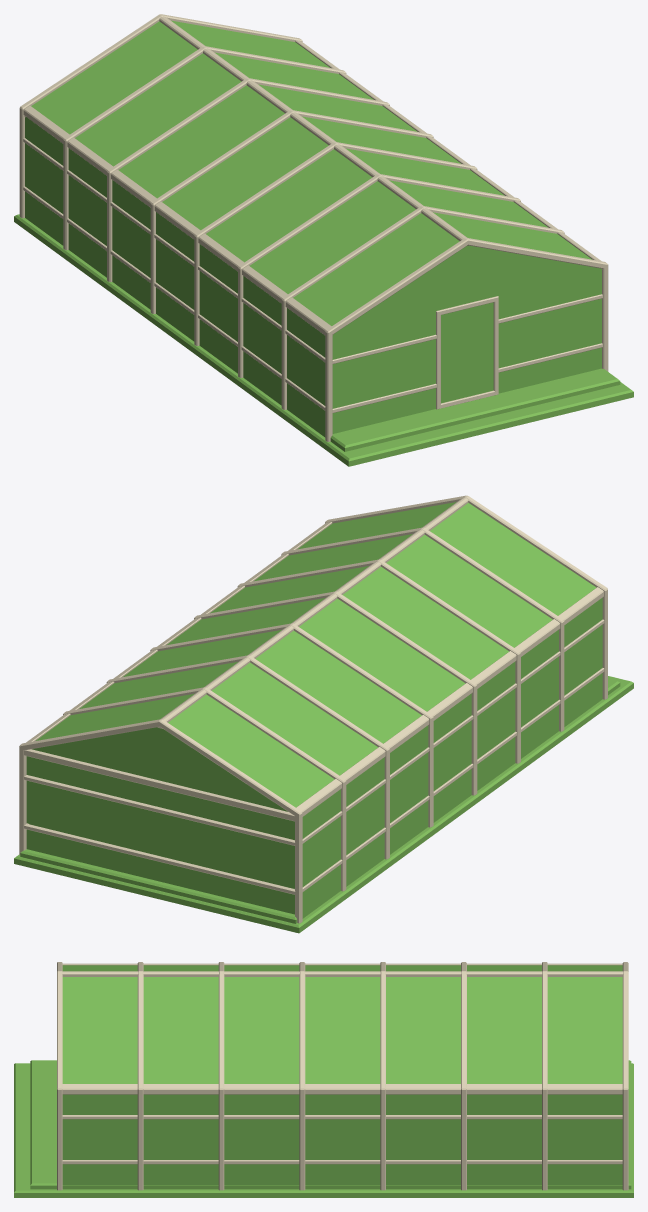
The model's file is greenhouse_a01.gltf.
3 views of the same model, one above another, from view 1: azimuth 30°, elevation 25°; view 2: azimuth 150°, elevation 25°; view 3: azimuth 270°, elevation 25° (orthographic). The views are drawn at different scales.
Parts seen in each view (by area): view 1: greenhouse_a01_001; view 2: greenhouse_a01_001; view 3: greenhouse_a01_001.
Boxes of the visible parts, x1=… form: greenhouse_a01_001: x1=14, y1=14, x2=633, y2=466; greenhouse_a01_001: x1=14, y1=495, x2=633, y2=933; greenhouse_a01_001: x1=14, y1=962, x2=633, y2=1197.
Bounding box in the file's own units: 5.18 × 3.04 × 10.52.
1 material, 1 textured.
